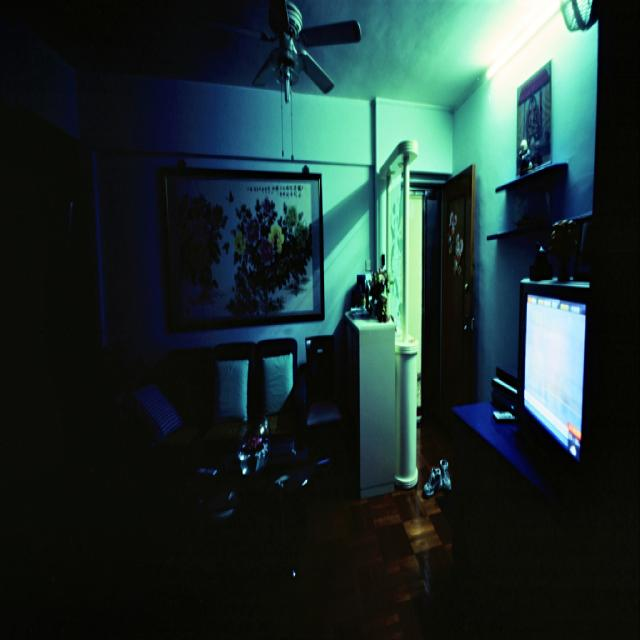Bulb: (213, 1, 361, 162)
